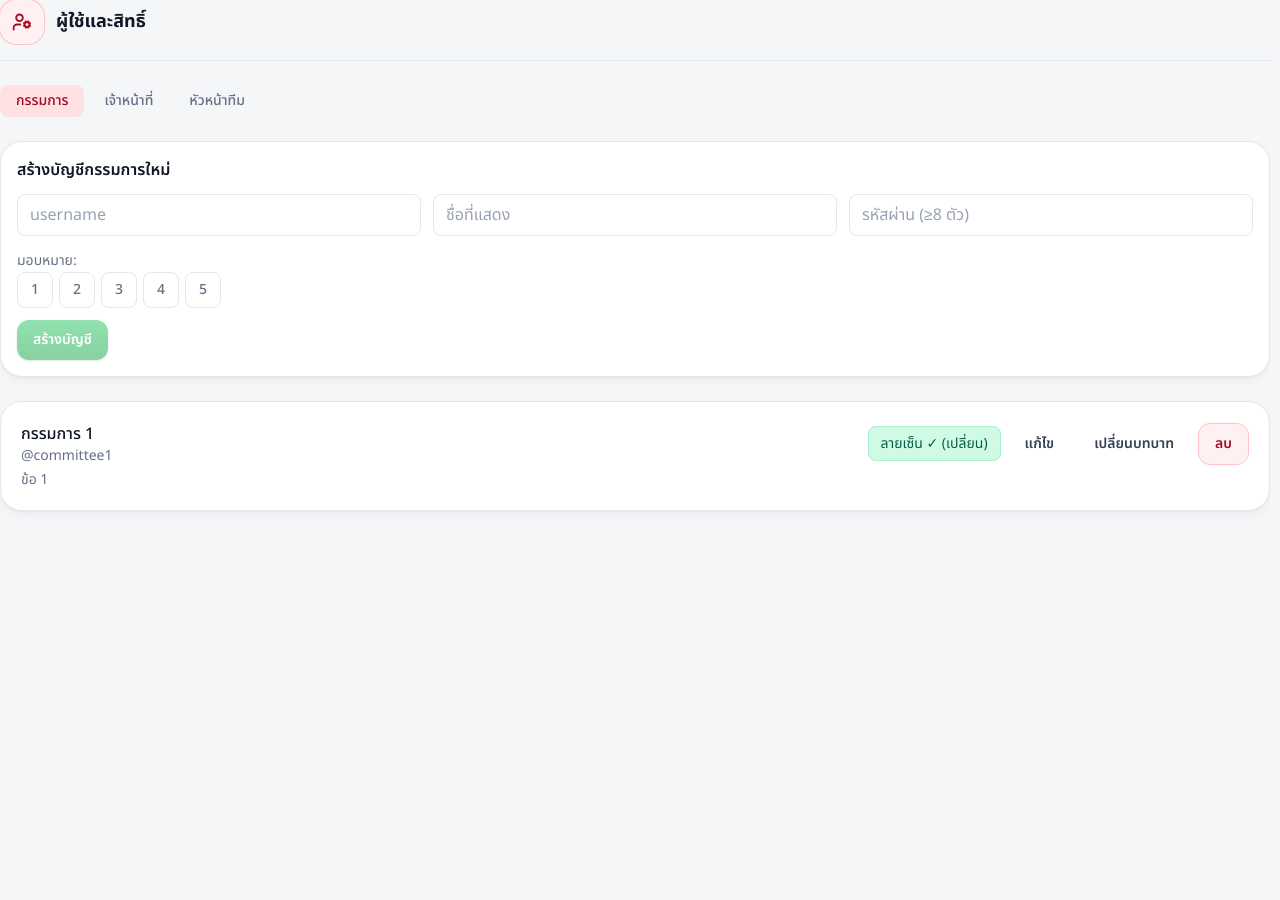
Test: Team leader management (create / edit / delete) › creates via POST /admin/team-leaders with schoolId, after a confirm dialog and showing a success message
Click the button "หัวหน้าทีม" at point(217, 101), box [173, 85, 261, 117]
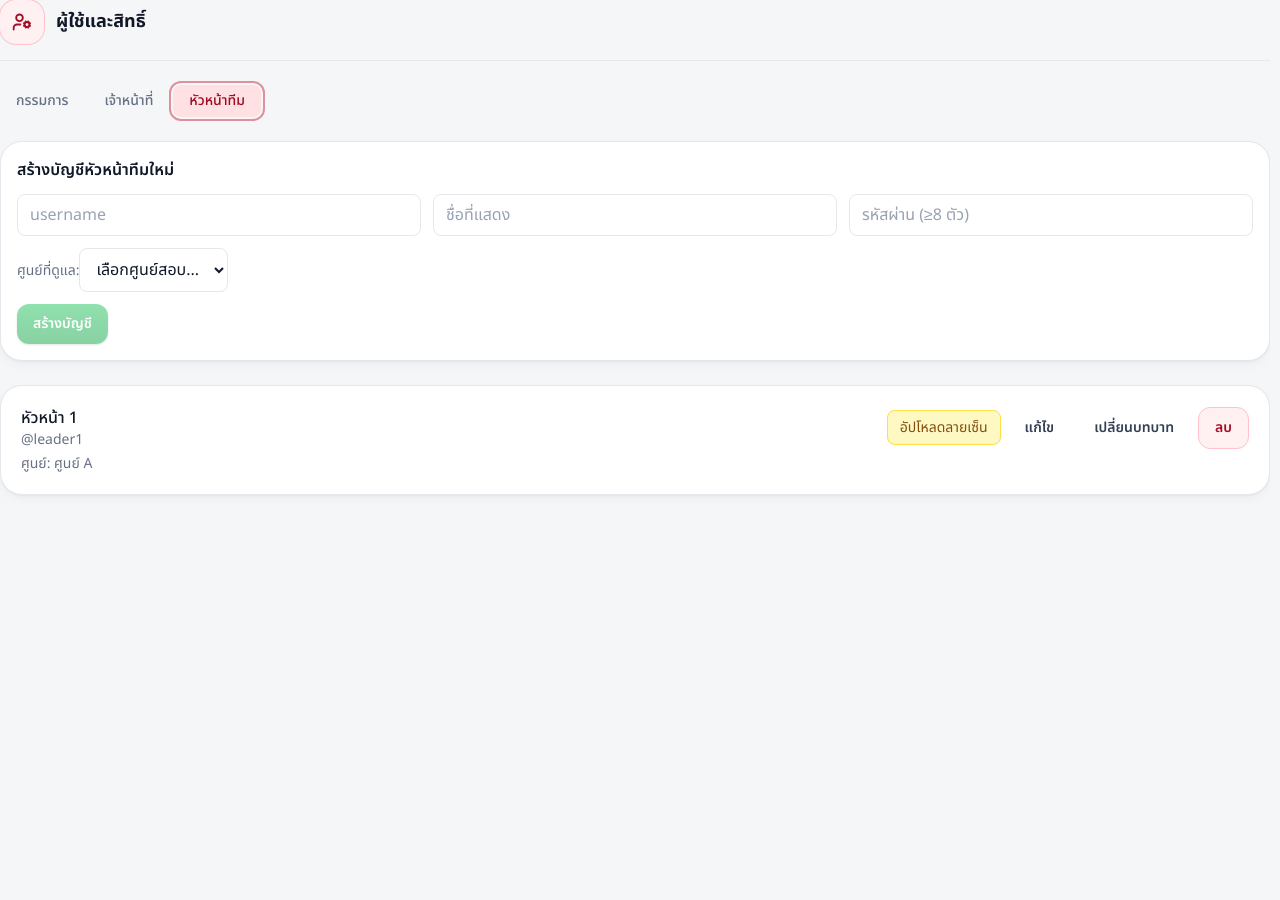
expect the text "หัวหน้า 1" is shown: met, box [21, 406, 83, 430]
Type "tl2" into the field with placeholder "username" at point(219, 215), box [17, 194, 421, 236]
Type "หัวหน้า 2" into the field with placeholder "ชื่อที่แสดง" at point(635, 215), box [433, 194, 837, 236]
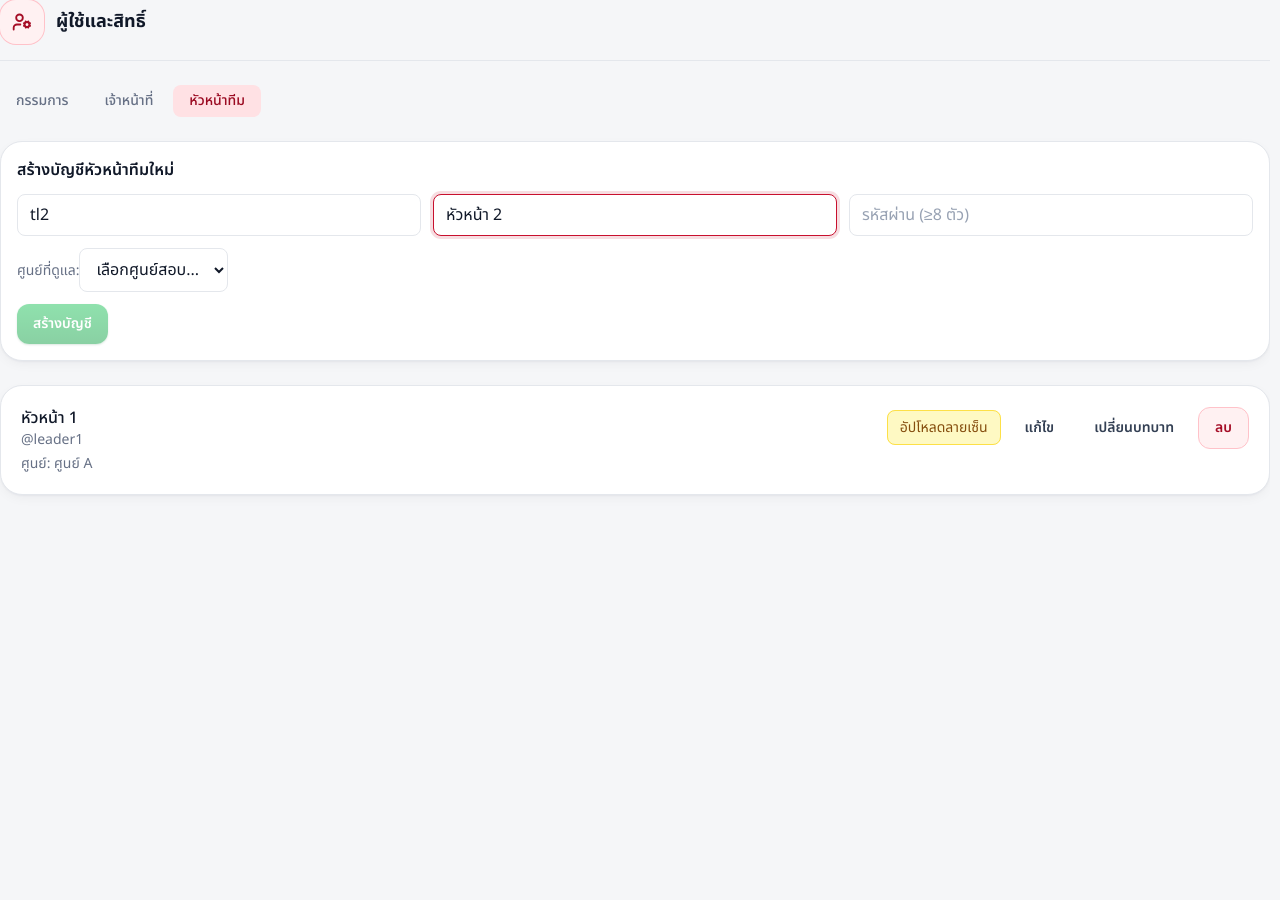
Type "password123" into the password field with placeholder "รหัสผ่าน (≥8 ตัว)" at point(1051, 215), box [849, 194, 1253, 236]
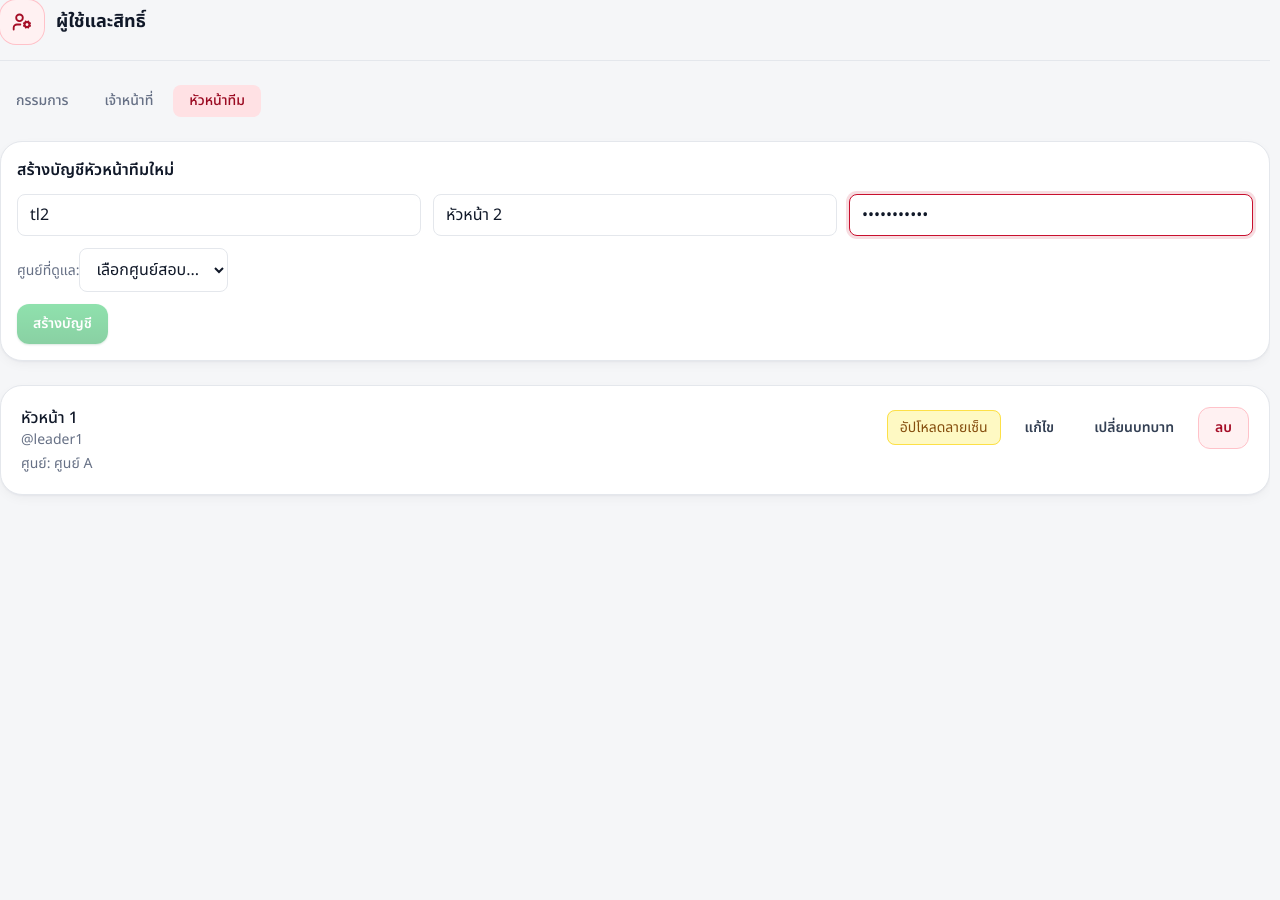
Select "ศูนย์ B" in the dropdown named "ศูนย์สอบ" at point(154, 270), box [79, 248, 228, 292]
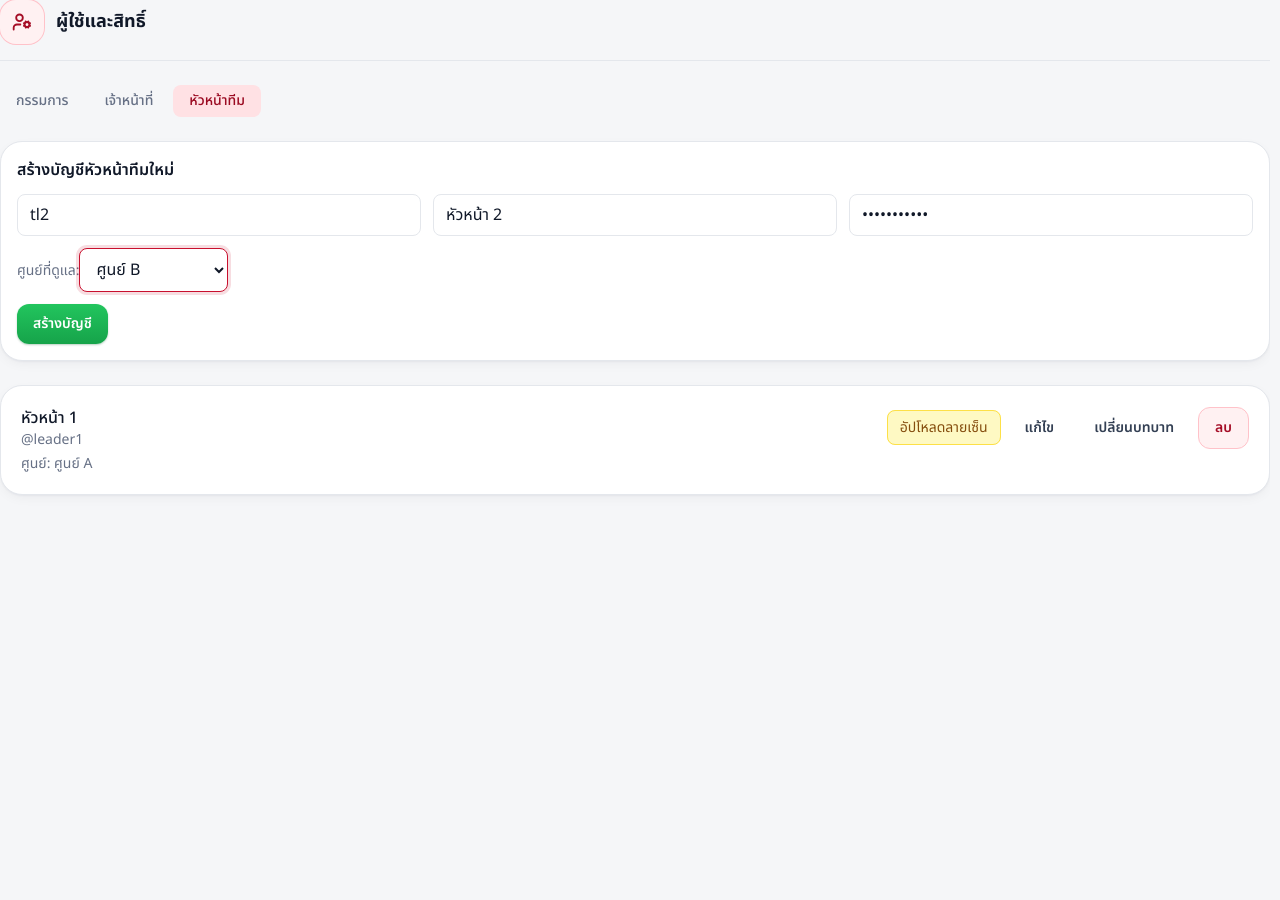
Click the button "สร้างบัญชี" at point(62, 324), box [17, 304, 108, 344]
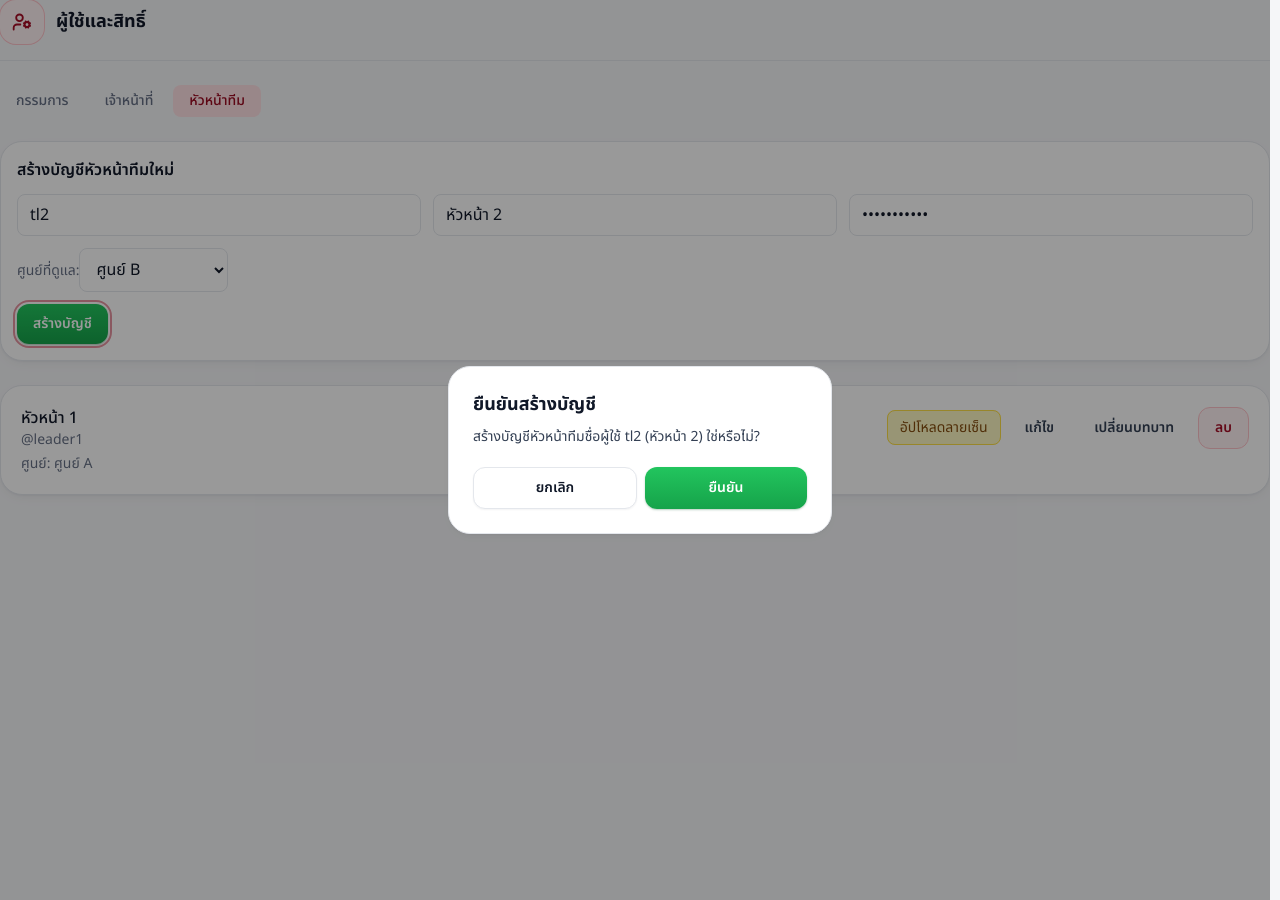
Click the button "ยืนยัน" at point(726, 488), box [645, 467, 807, 509]
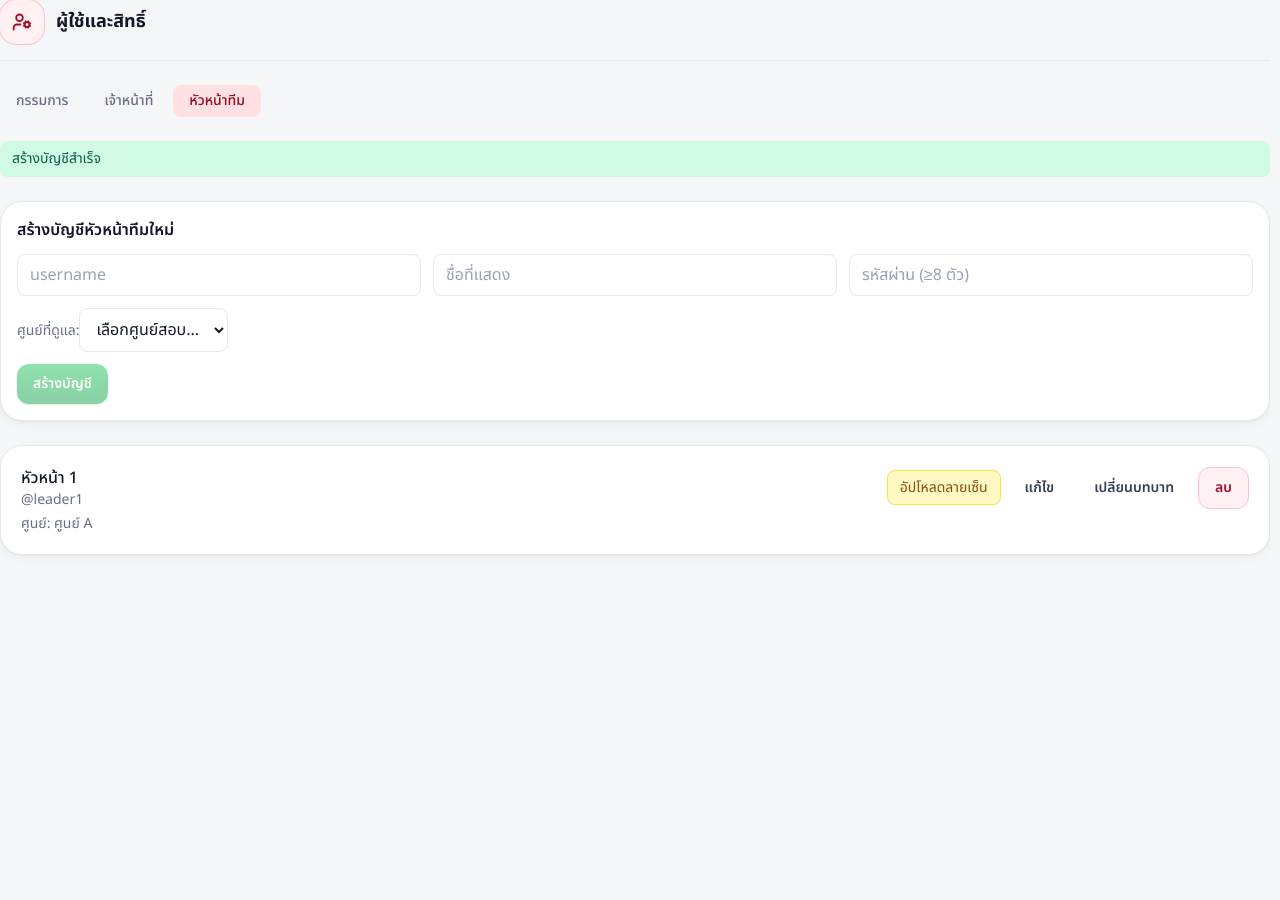
expect the text "สร้างบัญชีสำเร็จ" is shown: met, box [0, 141, 1270, 177]
